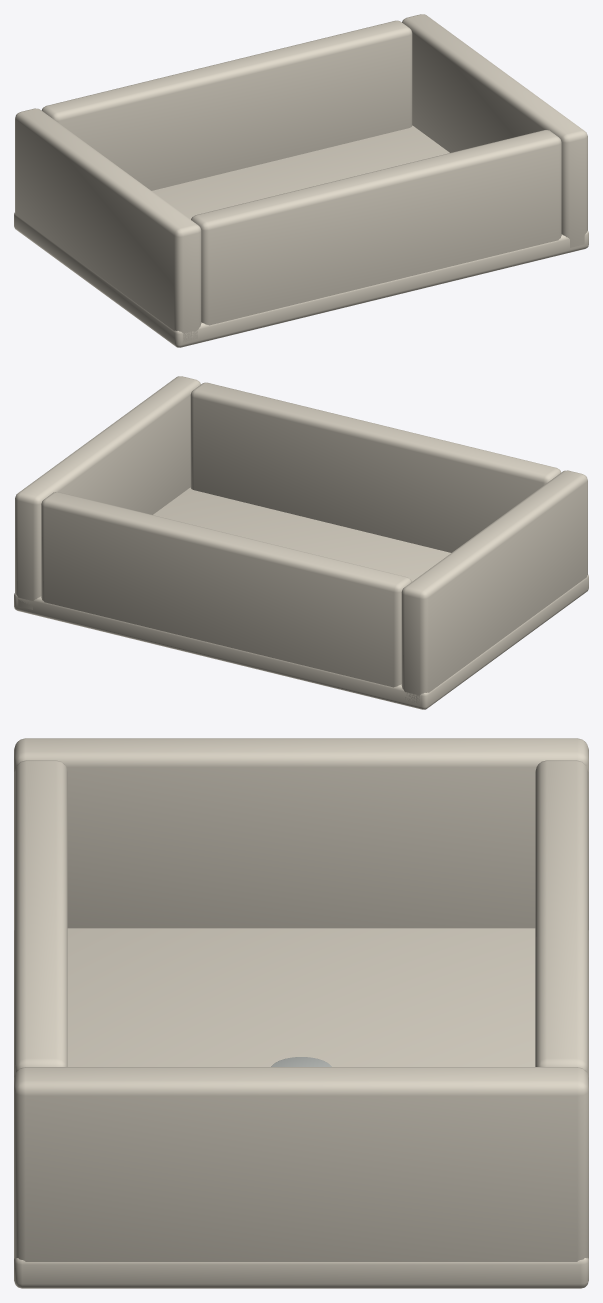
Rendered from rectangular-vessel.glb.
The picture shows the model from 3 angles, top to bottom: view 1: azimuth 30°, elevation 25°; view 2: azimuth 150°, elevation 25°; view 3: azimuth 270°, elevation 25°; orthographic projection. The views are drawn at different scales.
Parts seen in each view (by area): view 1: rectangular-vessel; view 2: rectangular-vessel; view 3: rectangular-vessel.
Boxes of the visible parts, x1=… form: rectangular-vessel: x1=14, y1=14, x2=588, y2=347; rectangular-vessel: x1=14, y1=376, x2=588, y2=709; rectangular-vessel: x1=14, y1=738, x2=588, y2=1288.
Bounding box in the file's own units: 0.55 × 0.15 × 0.38.
